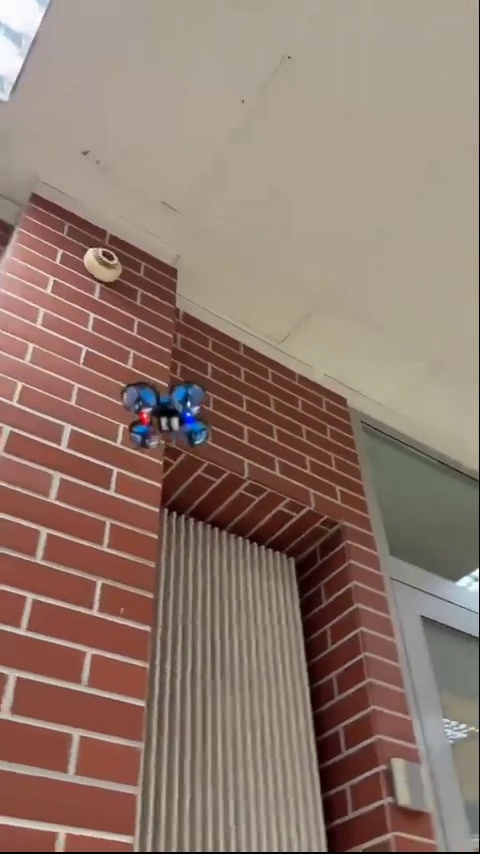drone: (121, 380, 210, 450)
